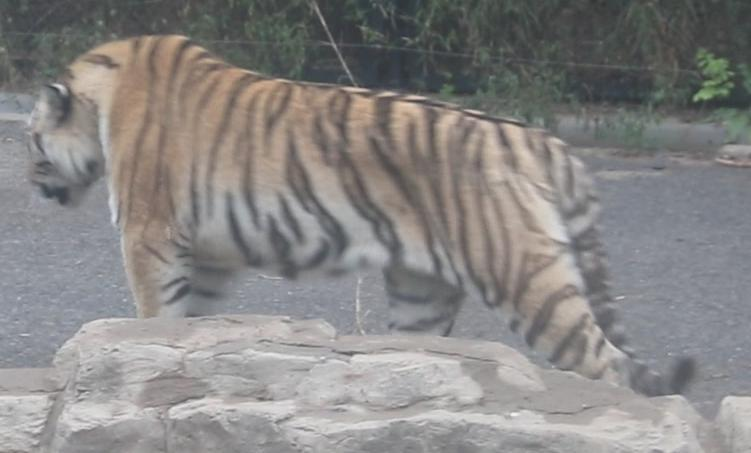tiger: (29, 35, 663, 385)
